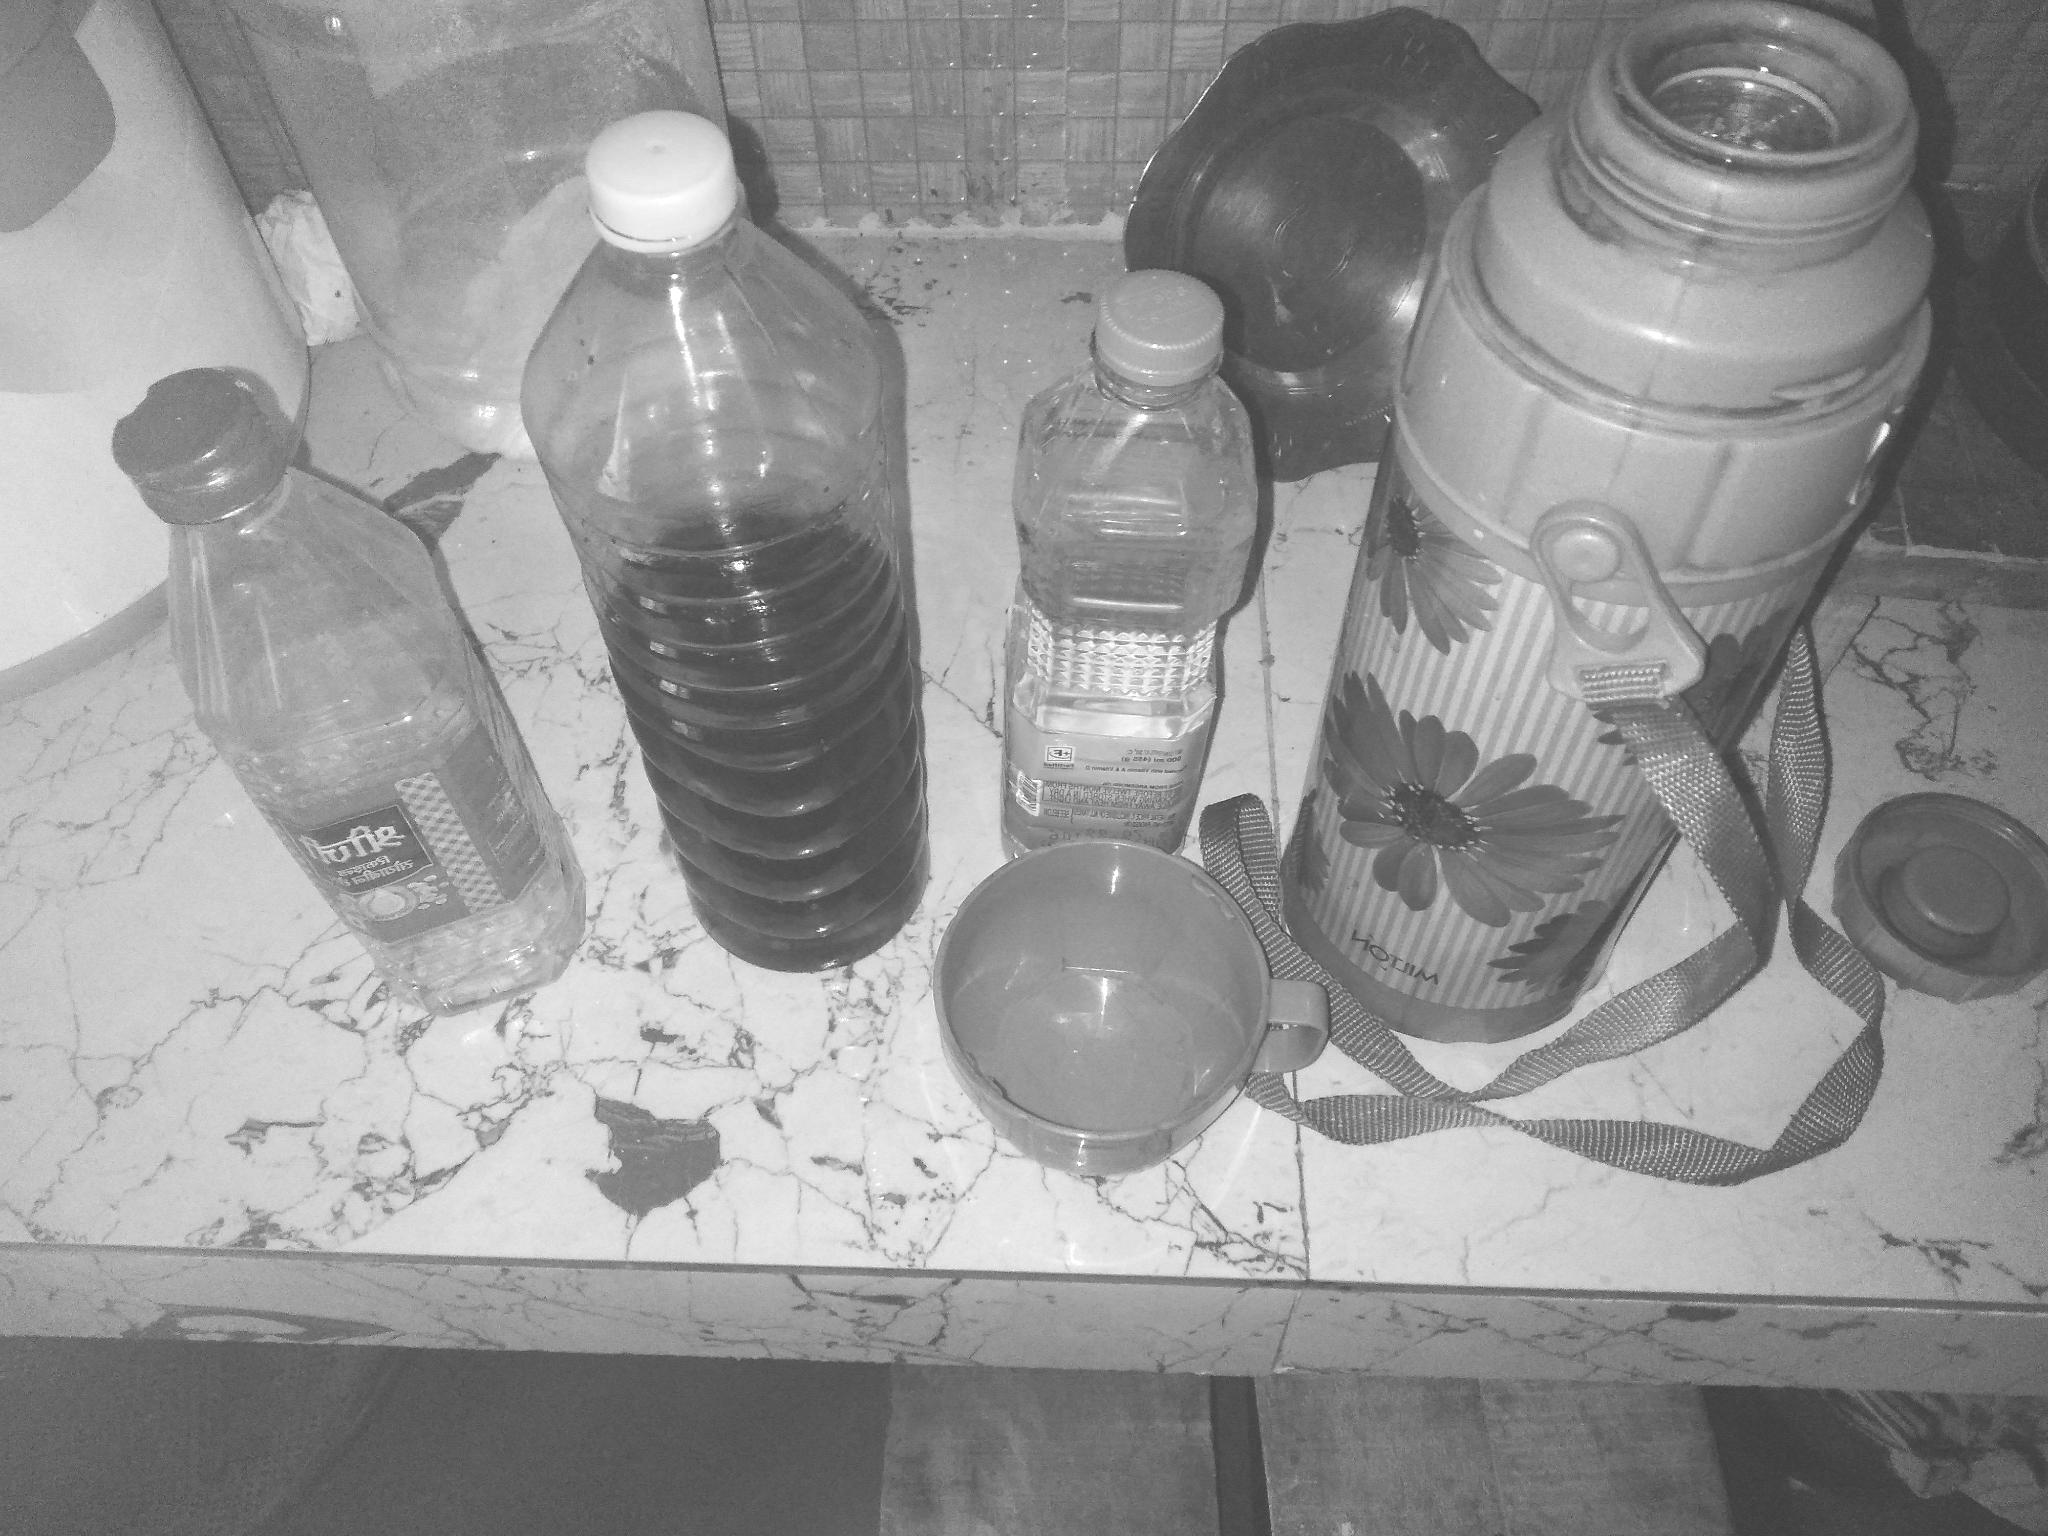bottle: (1304, 1, 1980, 1046), (508, 94, 930, 970), (98, 291, 590, 1037), (980, 253, 1294, 867)
